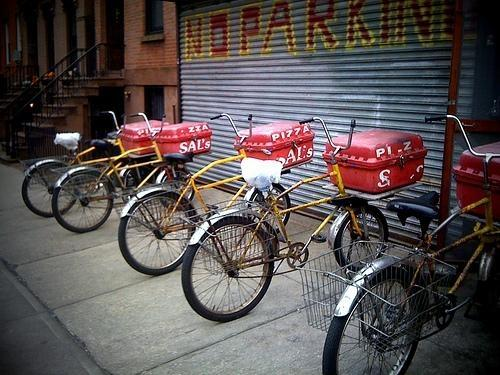bicycle: (298, 114, 500, 358), (184, 119, 426, 320), (114, 113, 254, 274), (55, 110, 174, 230), (22, 111, 128, 215)
